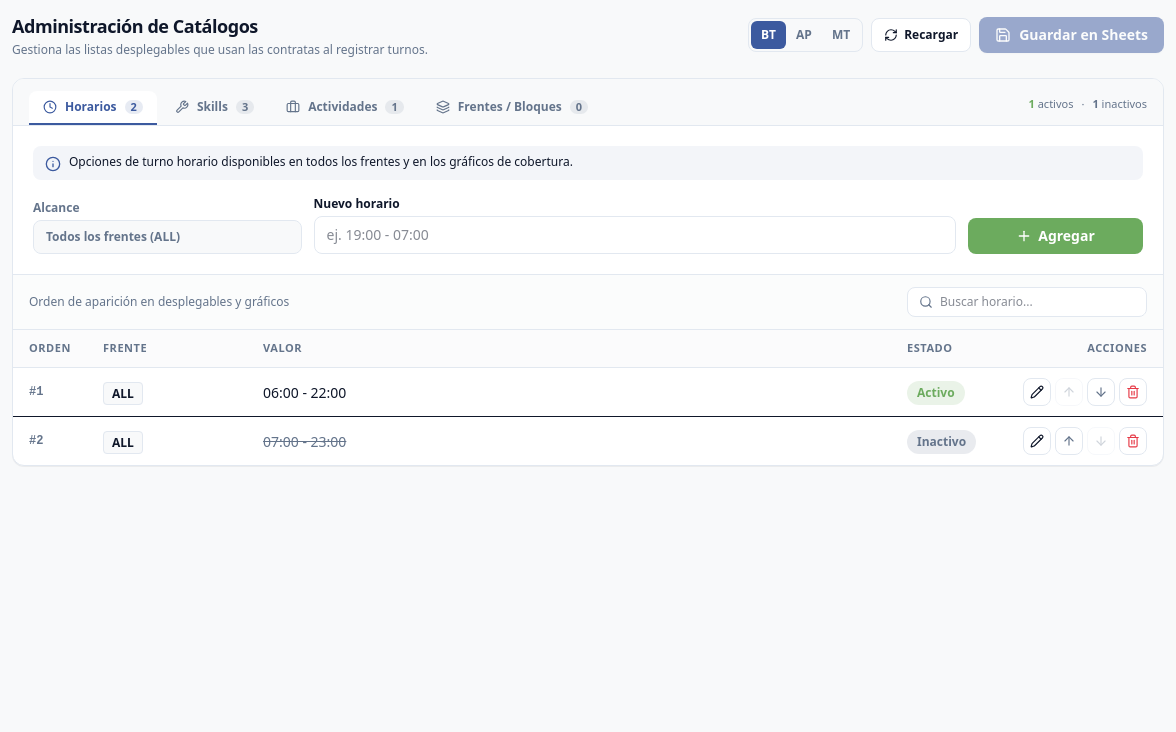
Scenario: AdminCatalogsTab › reorders items within their own frente in Skills tab and supports discarding changes
Click the button "Skills 3" at [215, 108], box top-left (161, 91), bottom-right (268, 125)
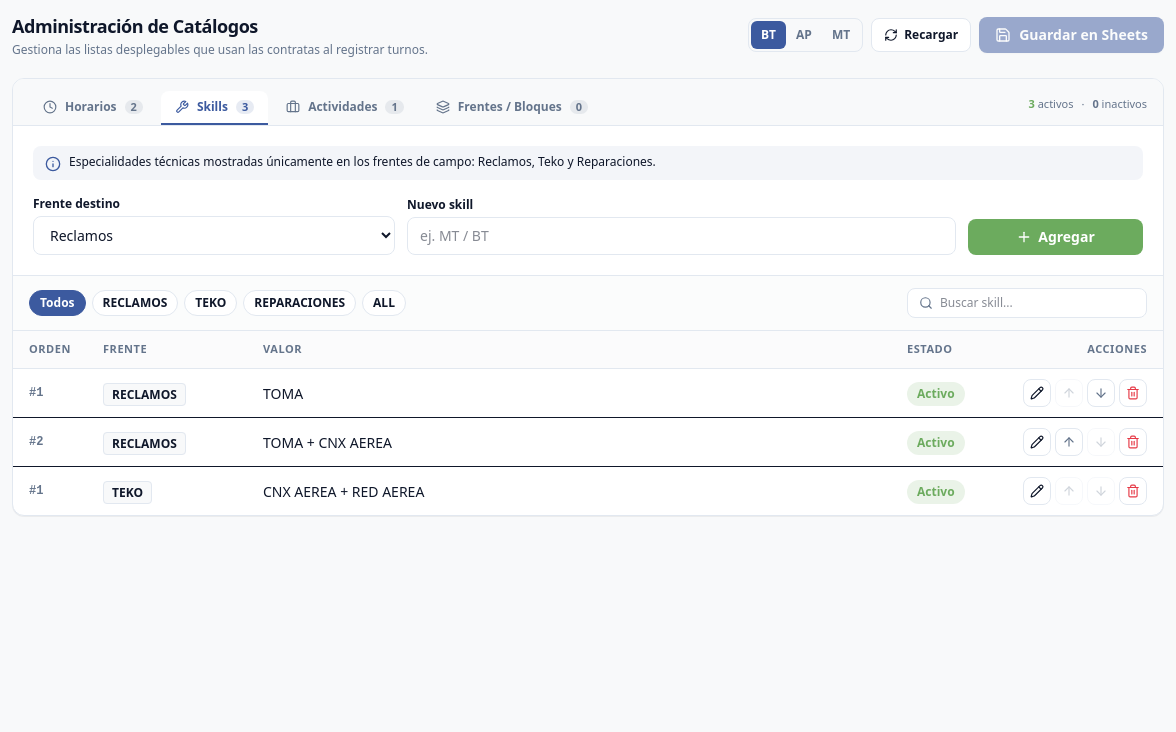
// Filter by RECLAMOS
Click the button "RECLAMOS" at [135, 303], box top-left (92, 290), bottom-right (178, 316)
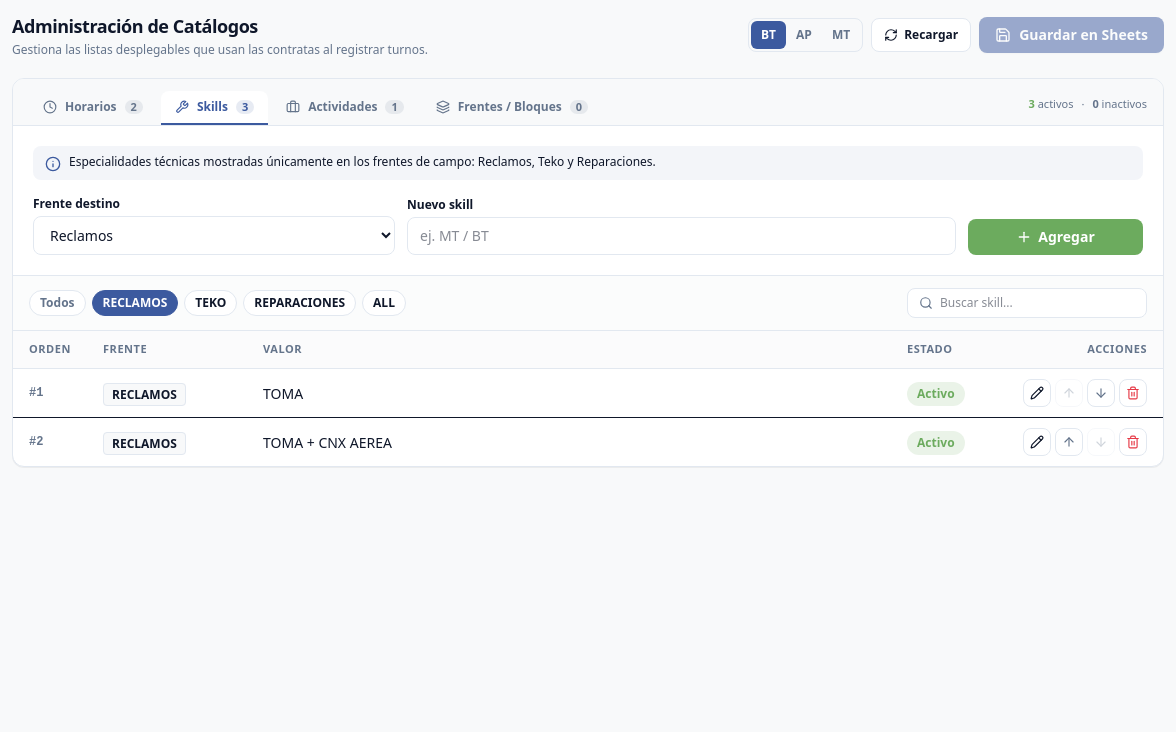
// Move 'TOMA + CNX AEREA' up
Click the button named "Subir TOMA + CNX AEREA" at [1069, 442], box top-left (1055, 428), bottom-right (1083, 456)
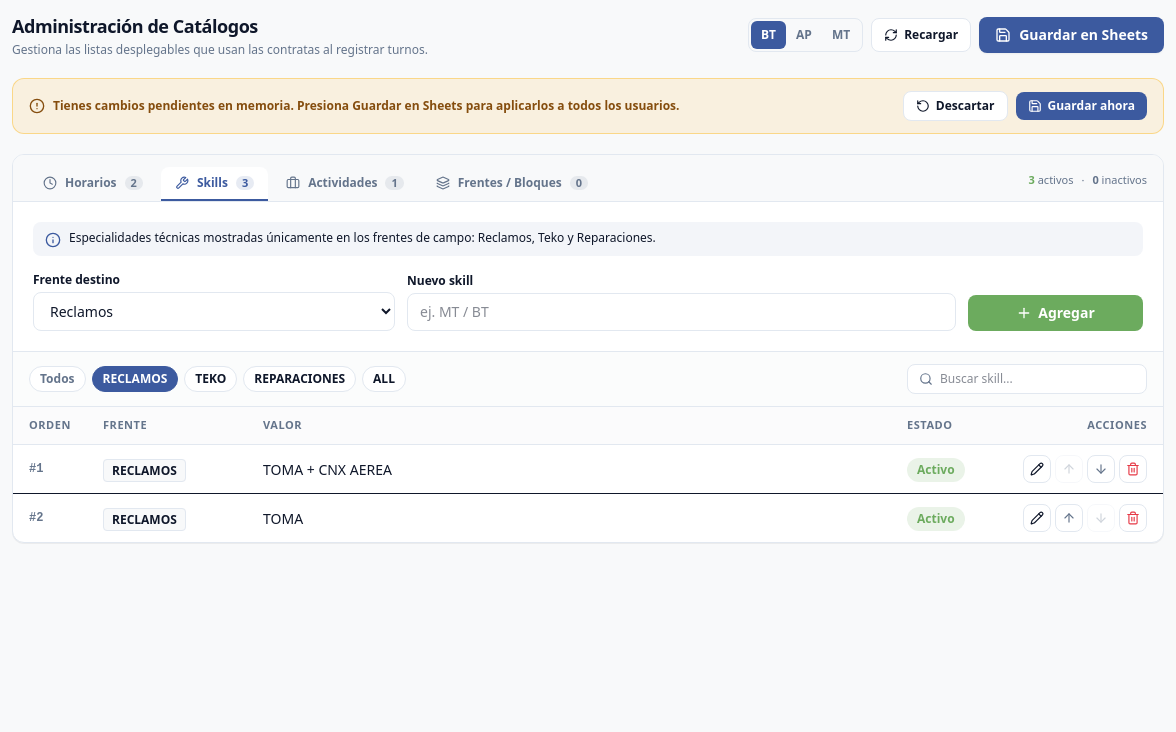
Check: the text "Tienes cambios pendientes en memoria" is shown, box top-left (53, 97), bottom-right (352, 114)
// Discard changes
Click the button "Descartar" at [955, 106], box top-left (903, 91), bottom-right (1008, 121)
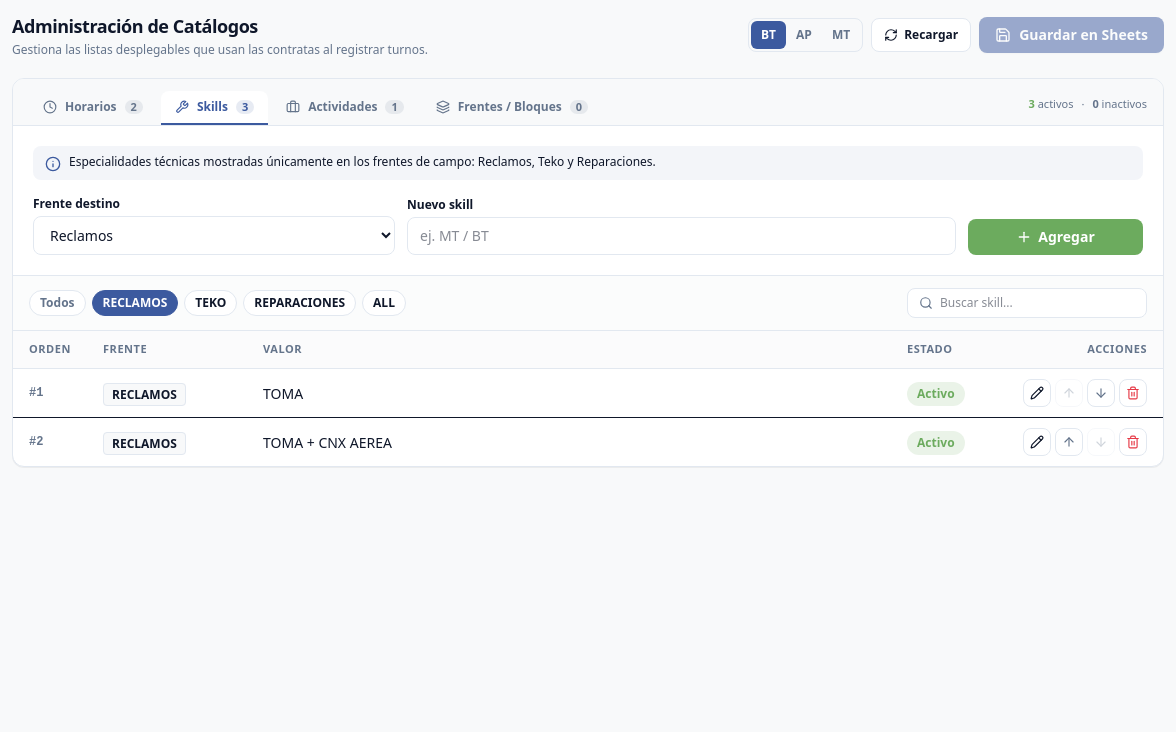
Check: the text "Tienes cambios pendientes en memoria" is gone
